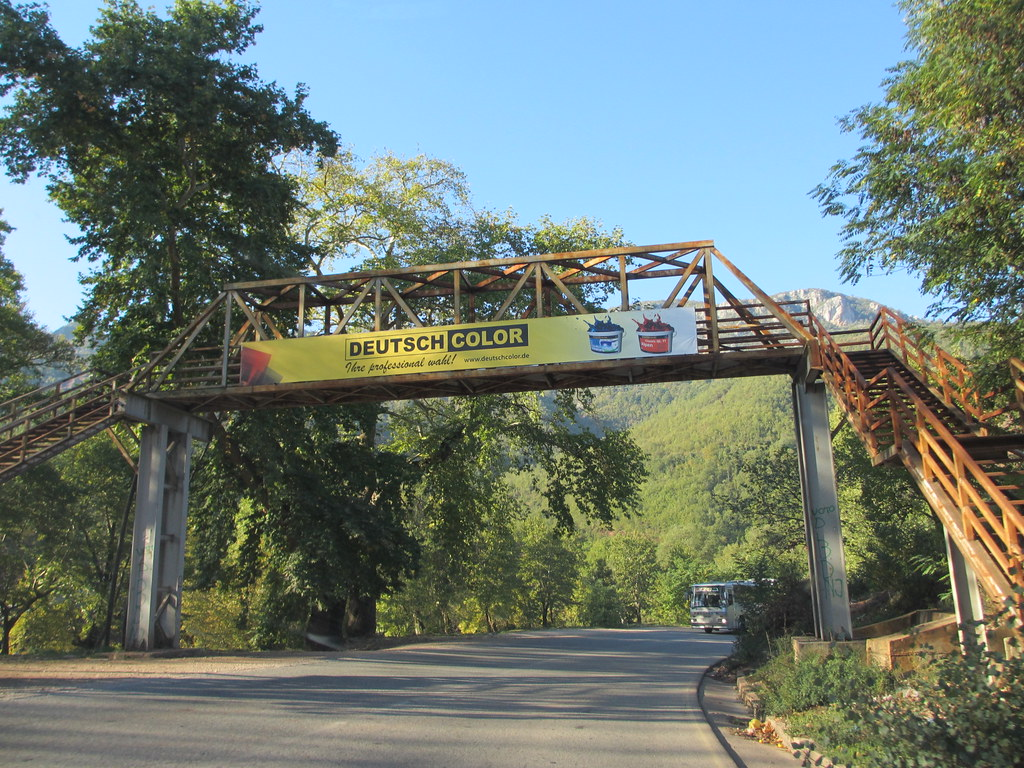bridge: (159, 239, 820, 407)
